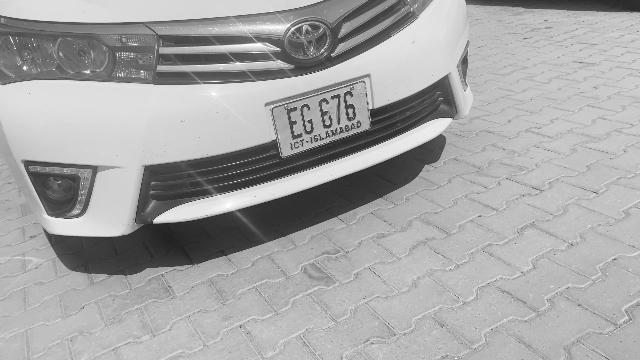Number: (282, 88, 361, 145)
